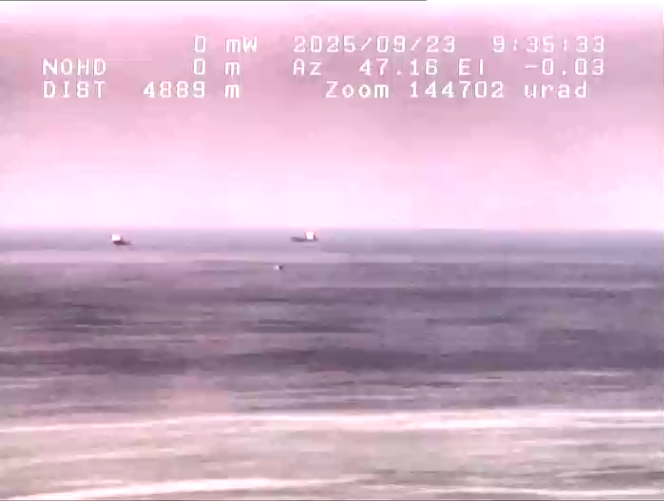TANKER: (104, 228, 137, 251), (281, 228, 324, 244)
TUGS: (270, 260, 287, 273)
